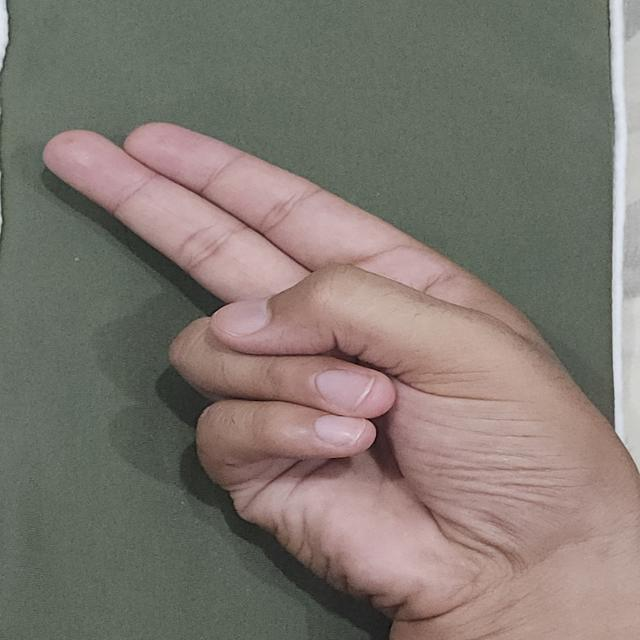ث: (29, 86, 640, 640)
